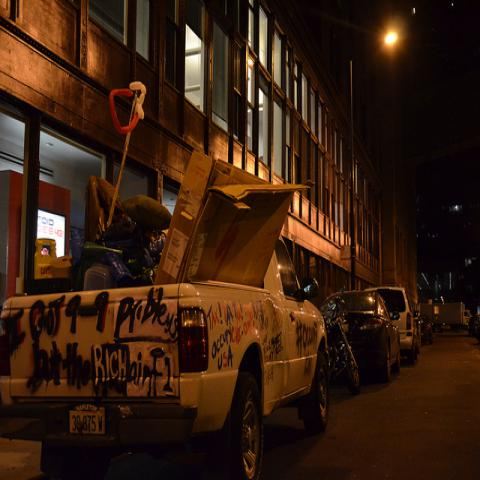car: (322, 285, 402, 382), (382, 282, 420, 358), (414, 311, 436, 345), (472, 314, 479, 340)
motorcycle: (317, 287, 362, 393)
truck: (1, 229, 333, 475)
